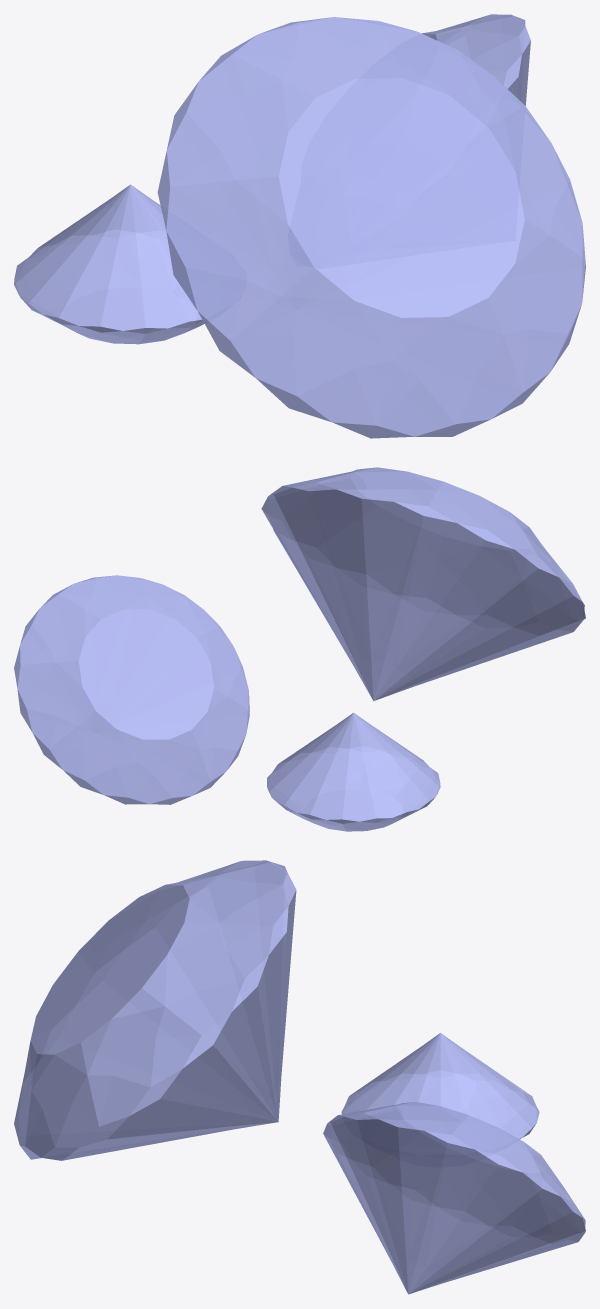
Rendered from Diamond V03.glb.
3 views of the same model, one above another, from view 1: azimuth 30°, elevation 25°; view 2: azimuth 150°, elevation 25°; view 3: azimuth 270°, elevation 25° (orthographic). The views are drawn at different scales.
Parts seen in each view (by area): view 1: Diamond V03 - 6200; view 2: Diamond V03 - 6200; view 3: Diamond V03 - 6200.
Part boxes in pixels (x1,y1,x2,y2): Diamond V03 - 6200: (14,14,585,438); Diamond V03 - 6200: (14,467,585,831); Diamond V03 - 6200: (14,860,585,1294).
Size of the model in its own units: 0.169 by 0.1078 by 0.1866.
1 material, 1 textured.
